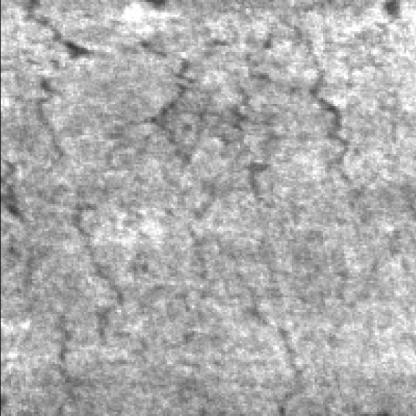crazing: (66, 118, 308, 414), (125, 19, 364, 204), (8, 4, 123, 379)
